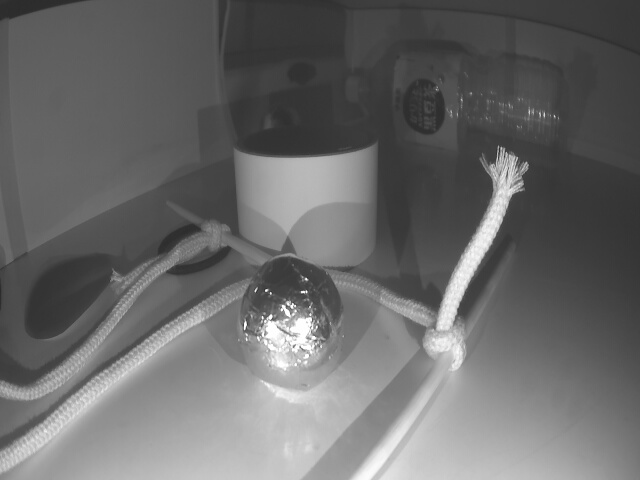Live: (238, 252, 343, 382)
